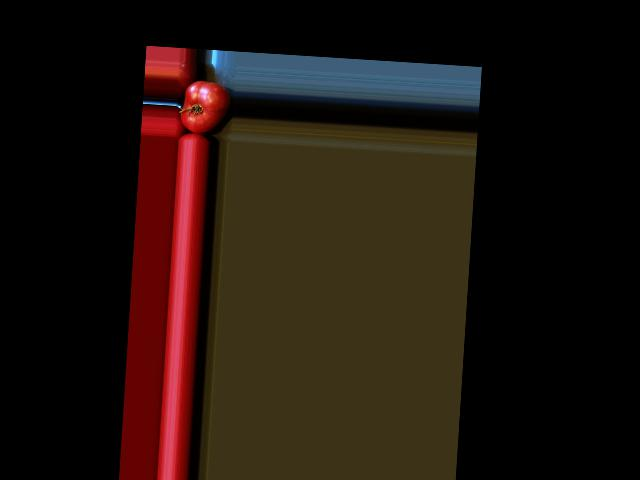tomato: (180, 80, 231, 135)
